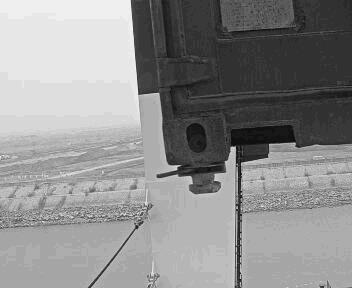twist_lock_1: (87, 166, 155, 211)
